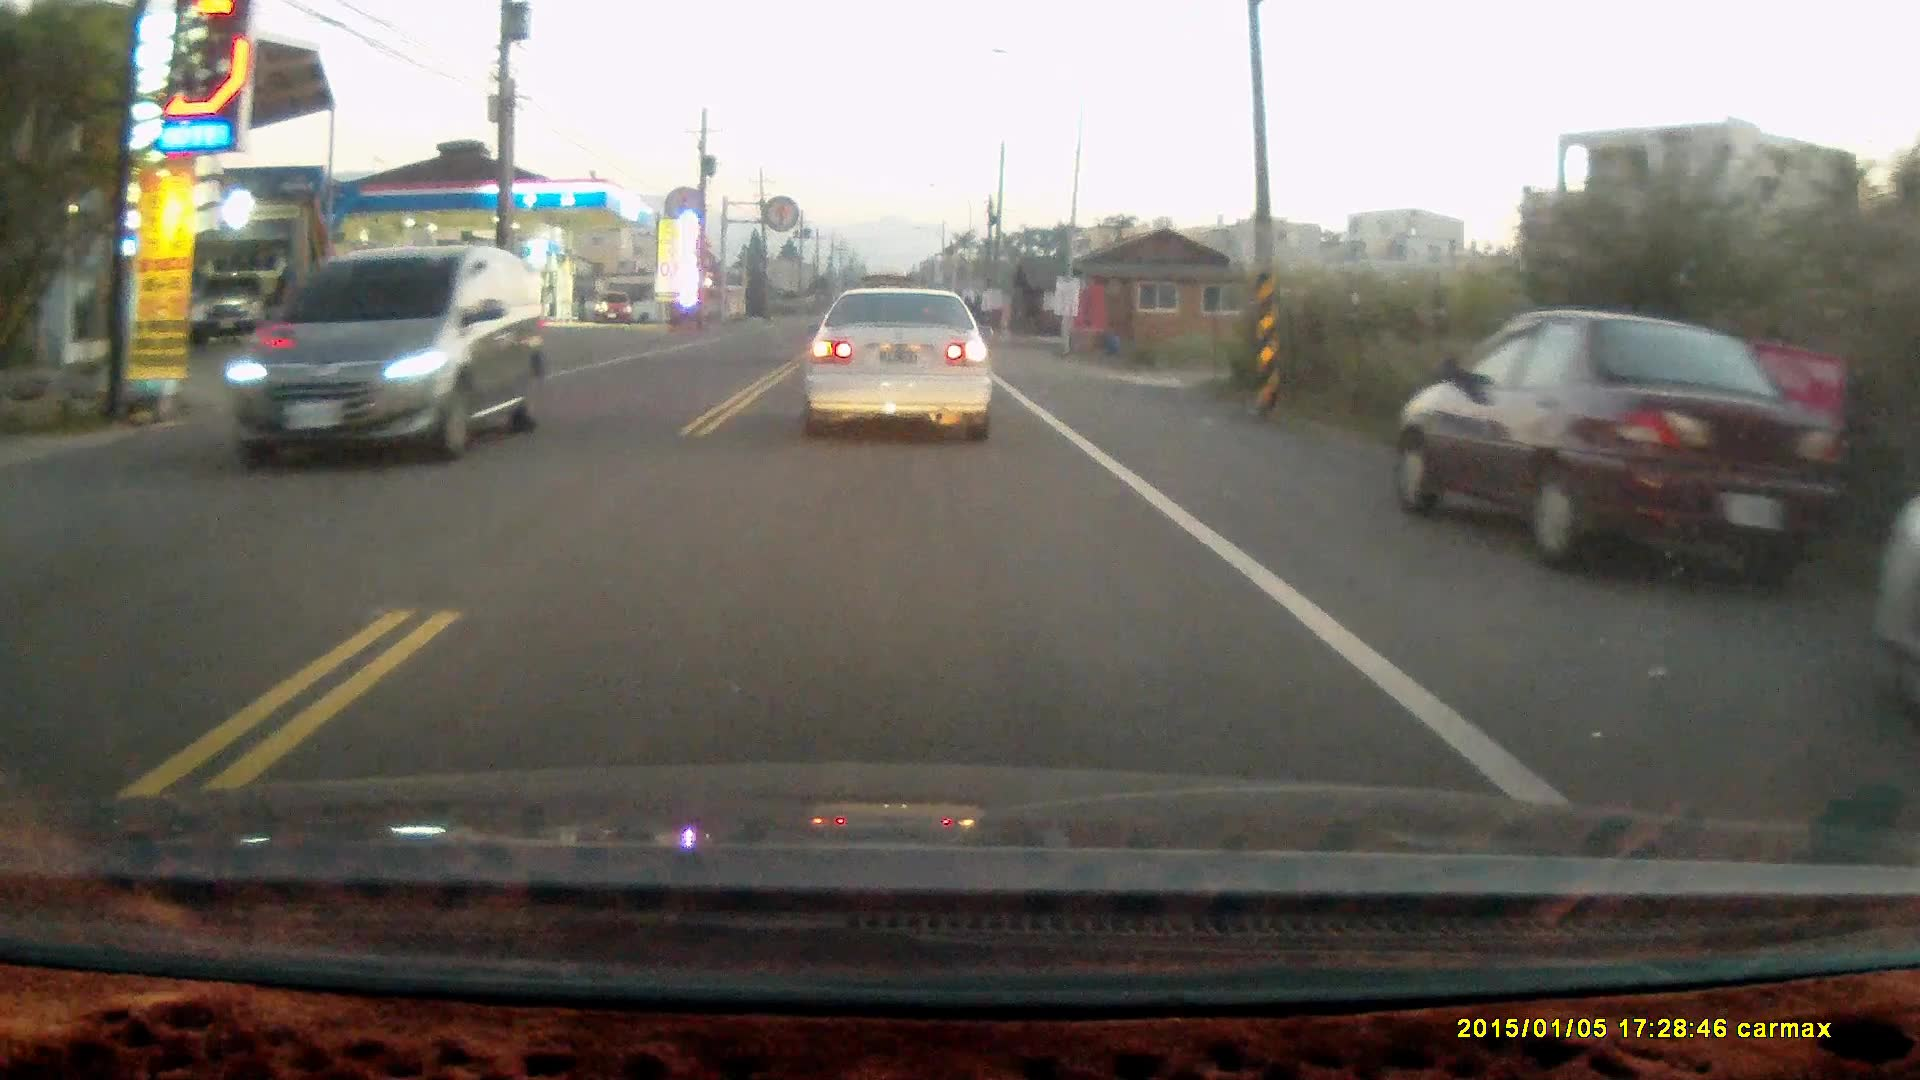vehicle: (1395, 311, 1836, 582), (223, 251, 553, 465), (796, 284, 996, 444)
